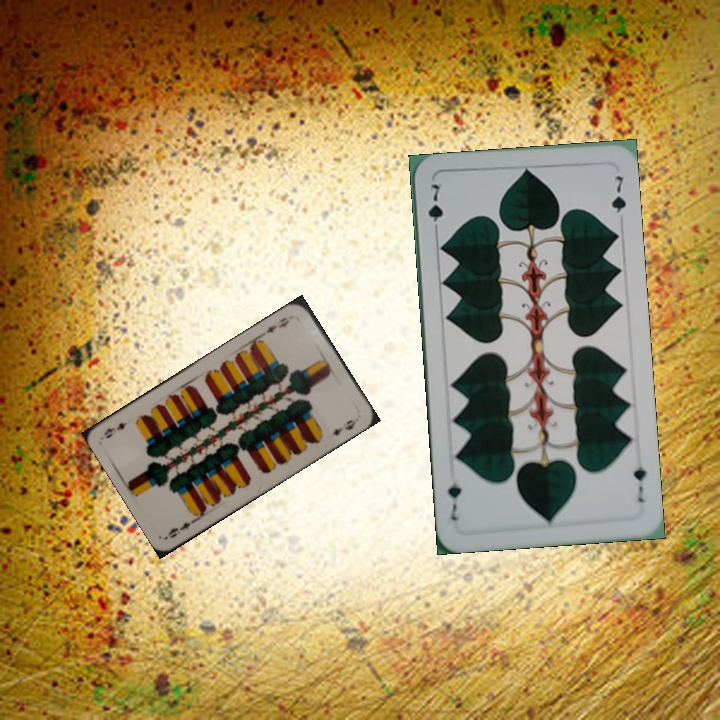E9: (163, 509, 201, 541), (262, 311, 296, 336)
G7: (423, 178, 446, 238), (629, 462, 649, 505)
